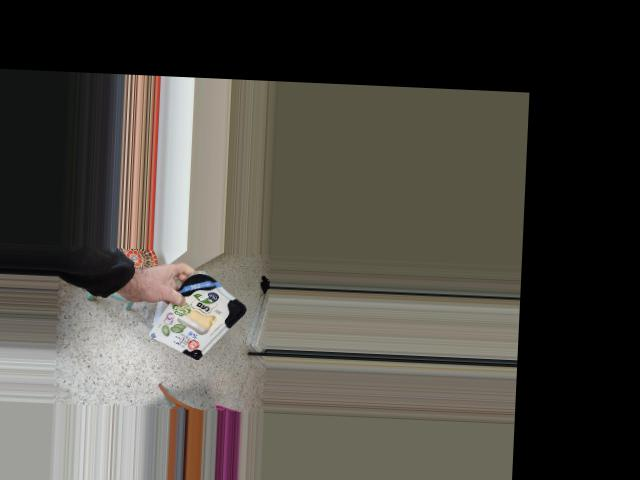cheese: (155, 267, 246, 370)
